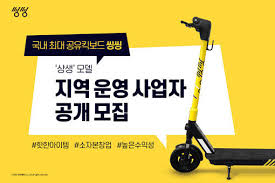kick_body: (217, 148, 275, 165)
kick_handler: (181, 16, 211, 39)
kick_neck: (190, 41, 208, 123)
kick_wheel: (170, 145, 199, 172)
